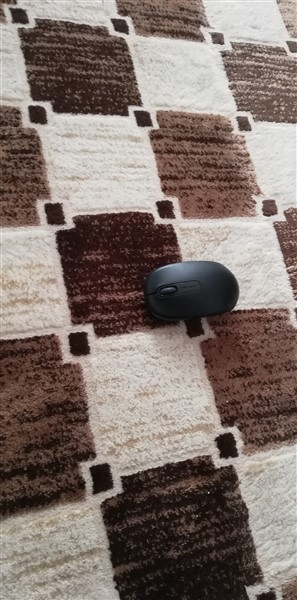mouse: (140, 259, 245, 320)
